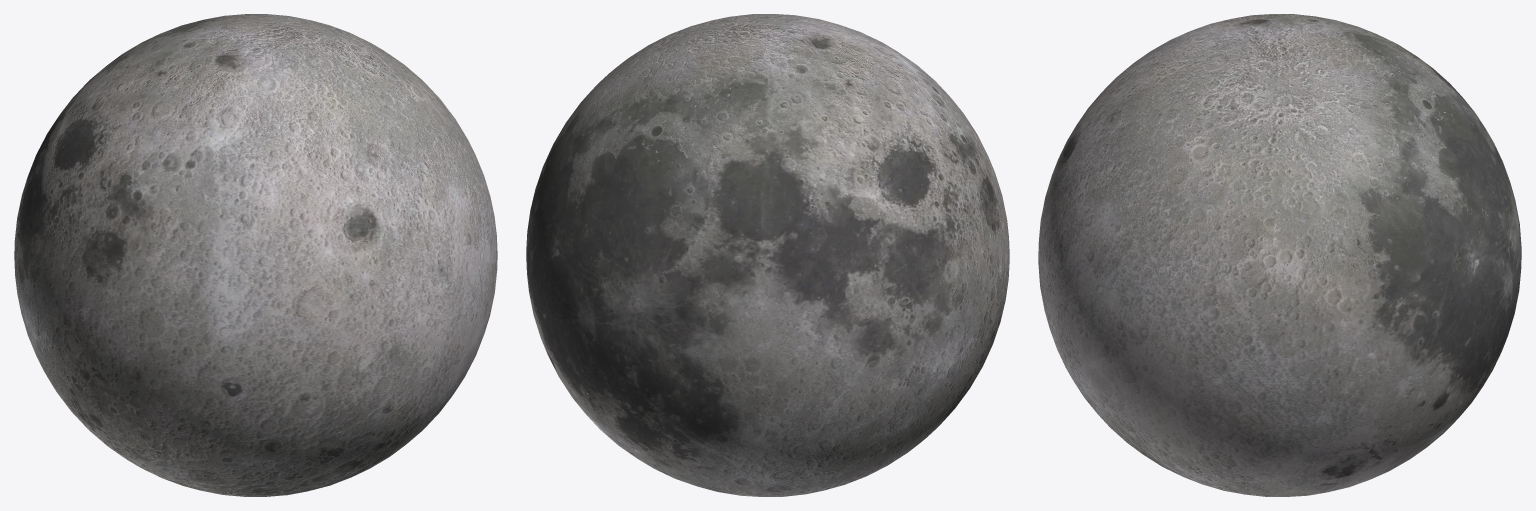
File: moon.glb
The picture shows the model from 3 angles, left to right: view 1: azimuth 30°, elevation 25°; view 2: azimuth 150°, elevation 25°; view 3: azimuth 270°, elevation 25°; orthographic projection.
Visible parts, largest first — view 1: moon; view 2: moon; view 3: moon.
Part boxes in pixels (<box>): moon: <box>14,14,497,496</box>; moon: <box>526,14,1009,496</box>; moon: <box>1038,14,1521,496</box>.
Bounding box in the file's own units: 99.93 × 99.94 × 99.92.
Materials: 1 (1 with a texture image).
